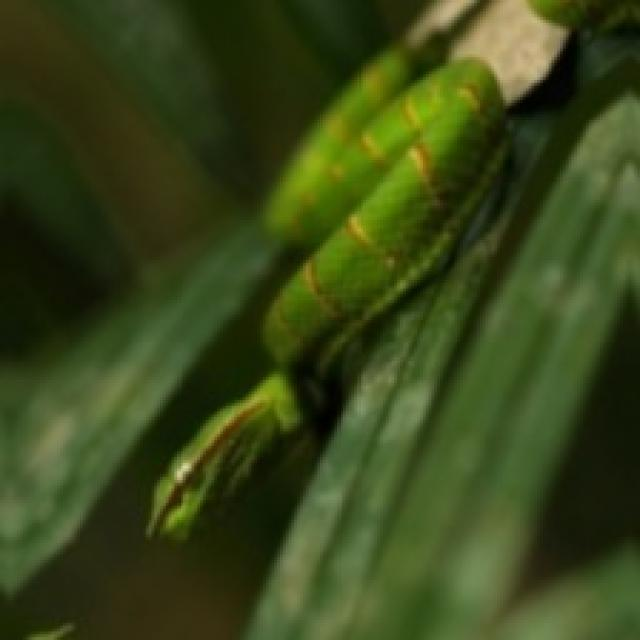north ph temple pitviper: (149, 0, 563, 537)
